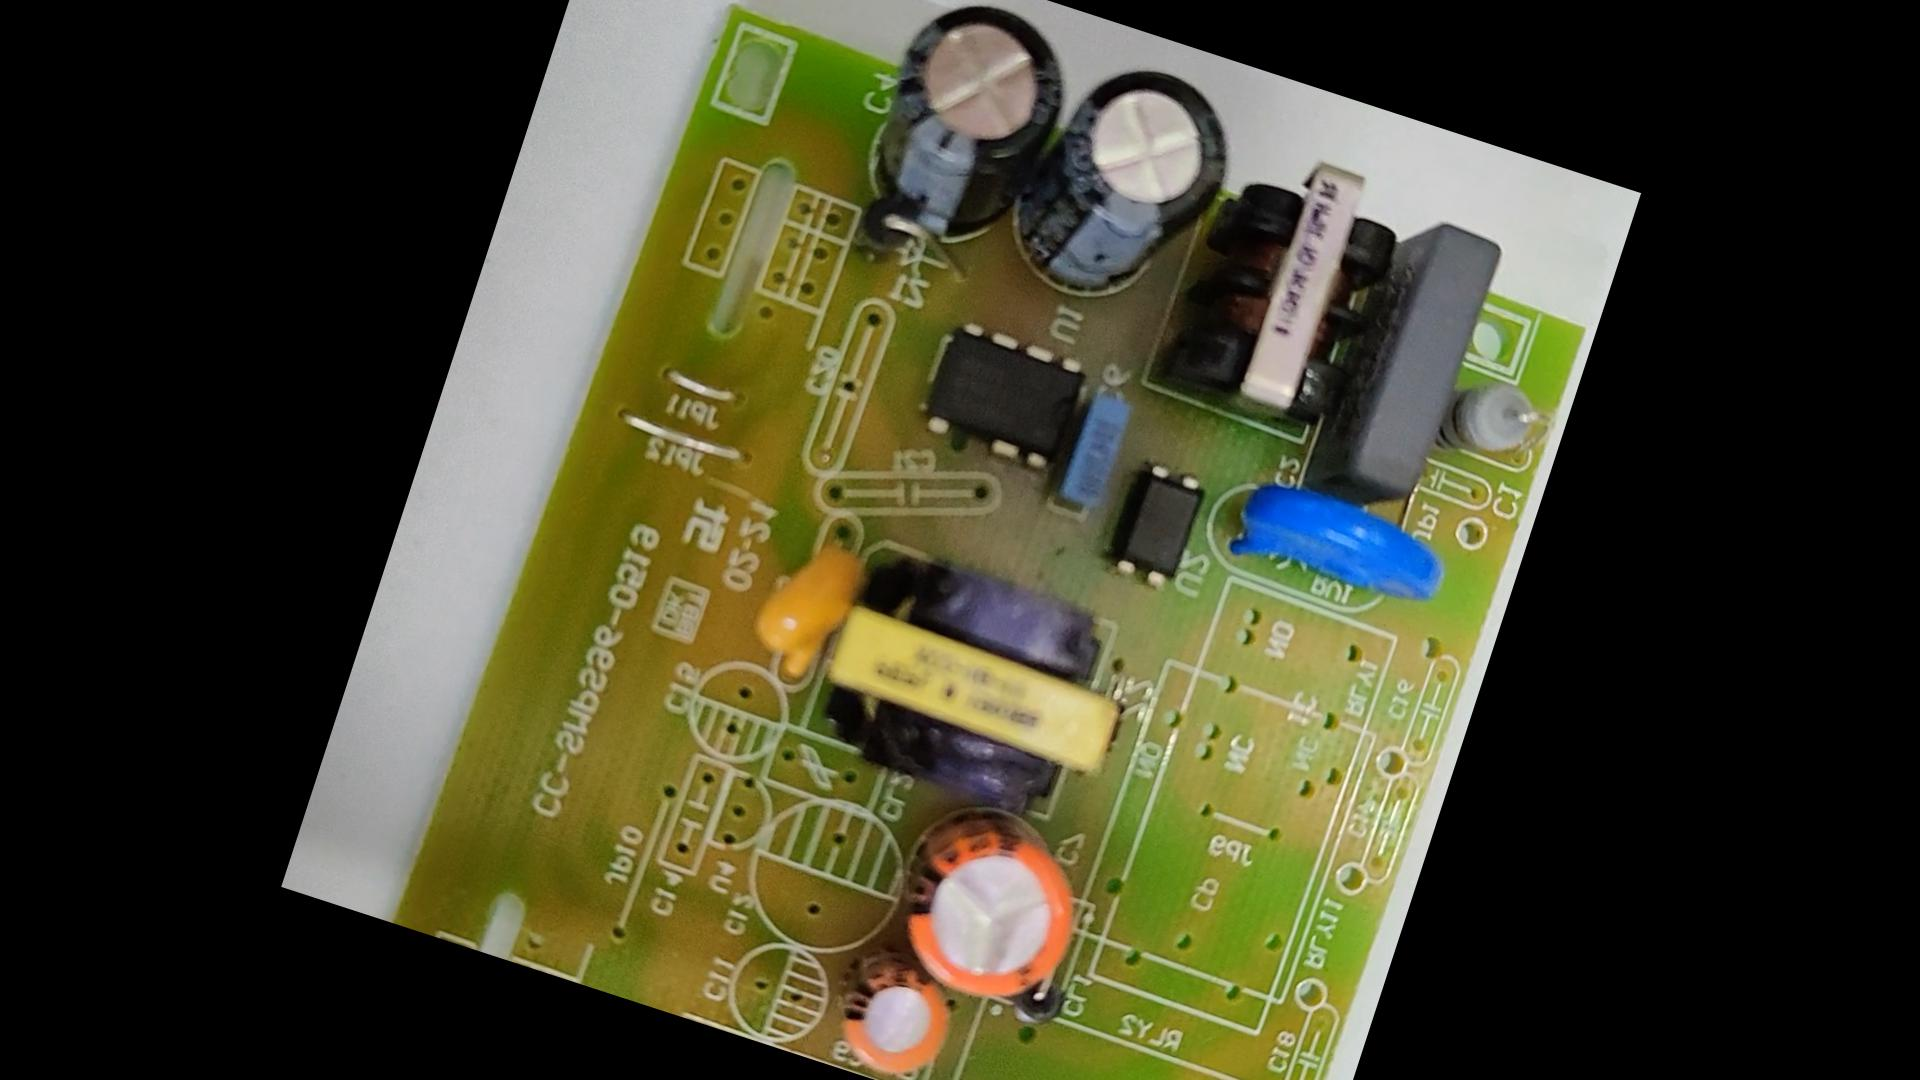Cap1: (864, 790, 1109, 1030)
Cap2: (803, 943, 969, 1079)
Cap3: (993, 37, 1254, 332)
Cap4: (835, 0, 1087, 280)
MOSFET: (909, 309, 1092, 488)
Mov: (1193, 456, 1456, 636)
Resistor: (1427, 363, 1548, 477)
Transformer: (796, 521, 1158, 851), (1158, 127, 1399, 443)
